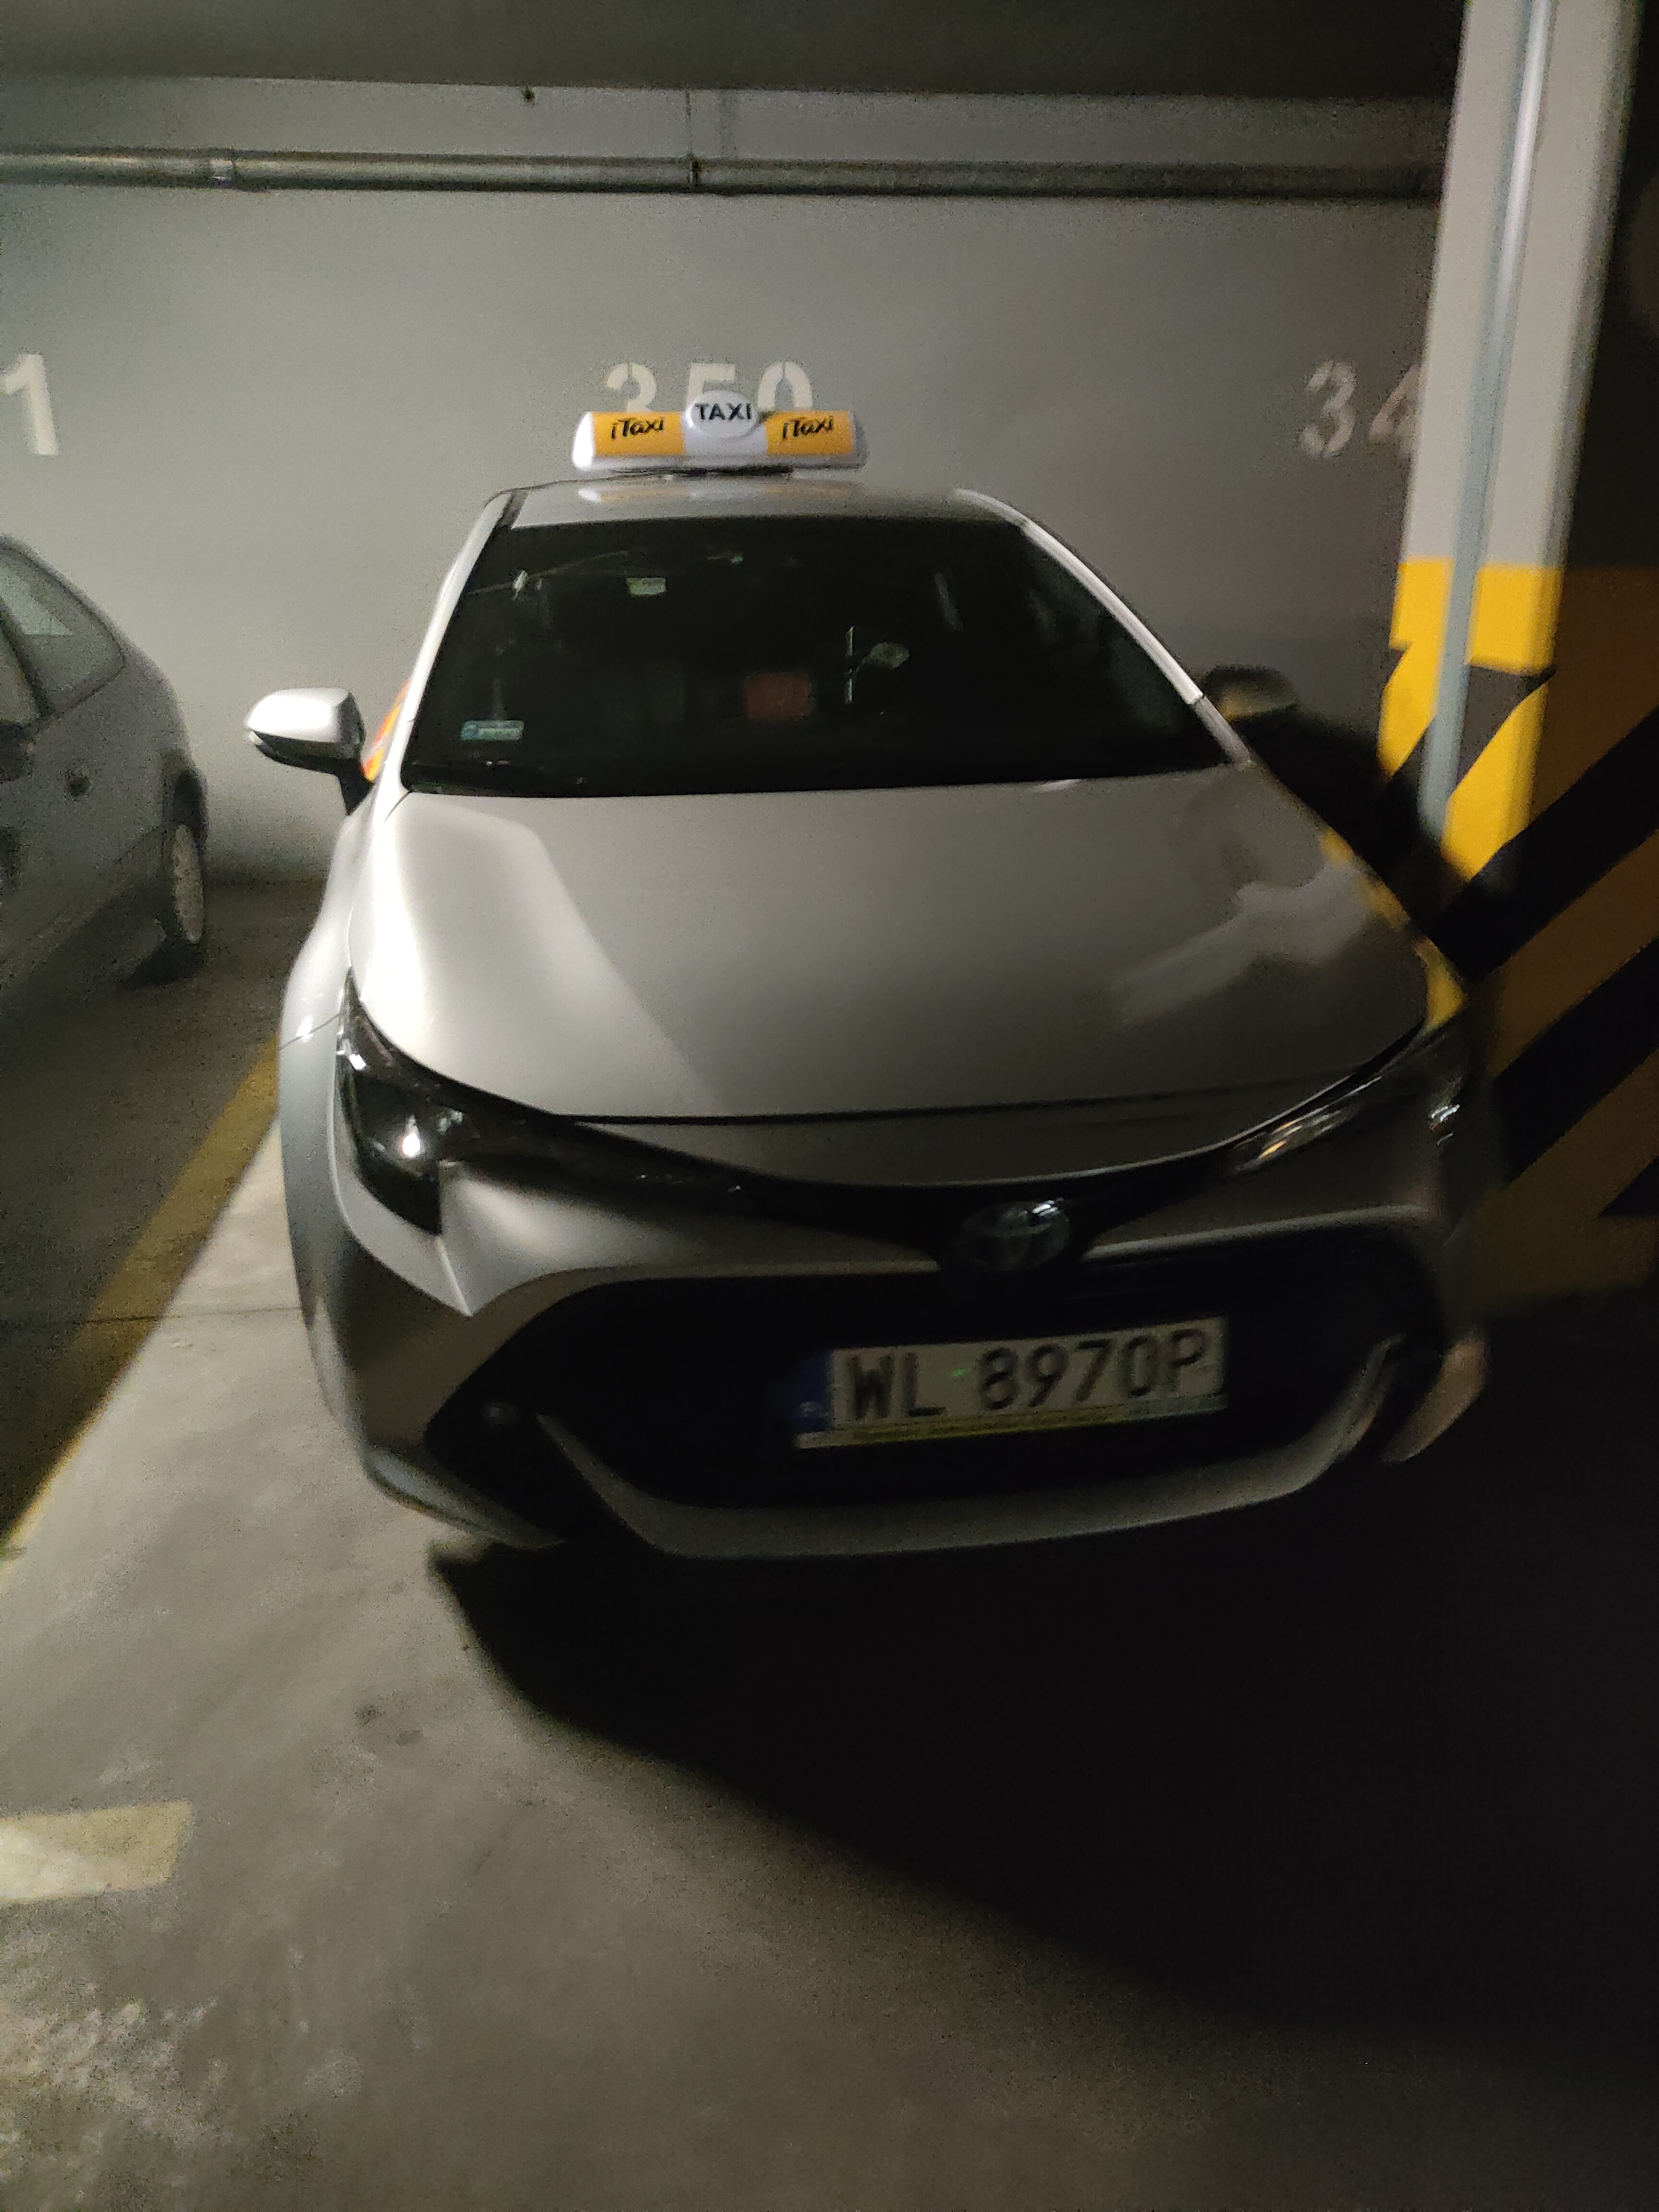number_plate: (796, 1317, 1230, 1456)
